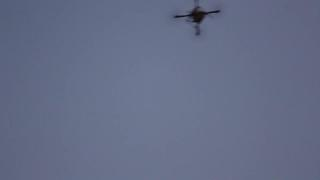UAV: (173, 0, 222, 36)
